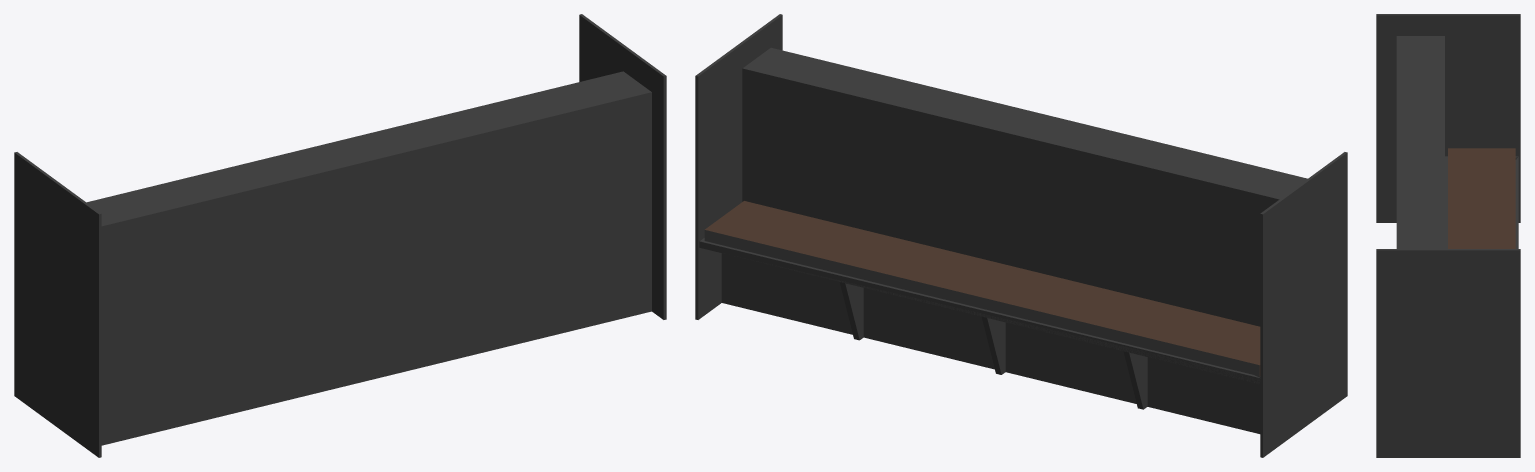
Rendered from chapel_chair.glb.
3 renders of one model, left to right at view 1: azimuth 30°, elevation 25°; view 2: azimuth 150°, elevation 25°; view 3: azimuth 270°, elevation 25°, orthographic. The views are drawn at different scales.
Visible parts, largest first — view 1: Cube; view 2: Cube; view 3: Cube.
Part boxes in pixels (x1=…): Cube: x1=14, y1=14, x2=666, y2=457; Cube: x1=695, y1=14, x2=1347, y2=457; Cube: x1=1376, y1=14, x2=1520, y2=457.
Size of the model in its own units: 3.52 by 1.44 by 0.9085.
